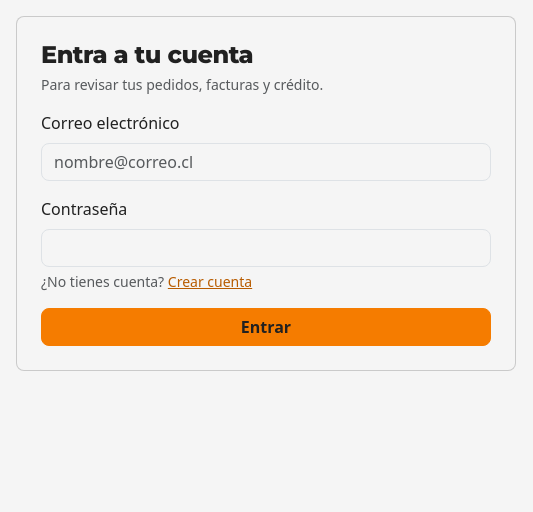
Test: Login › no deja entrar con los campos vacios
The image size is (533, 512).
Click the button "Entrar": click(266, 327) [41,308,491,346]
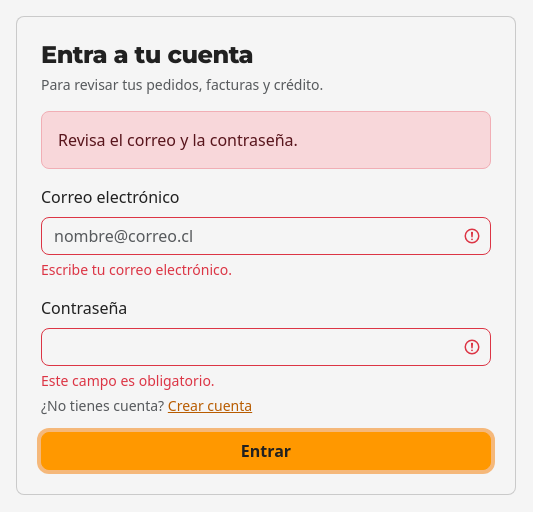
expect the text "Revisa el correo y la contraseña." is shown: met, box [41,111,491,169]
